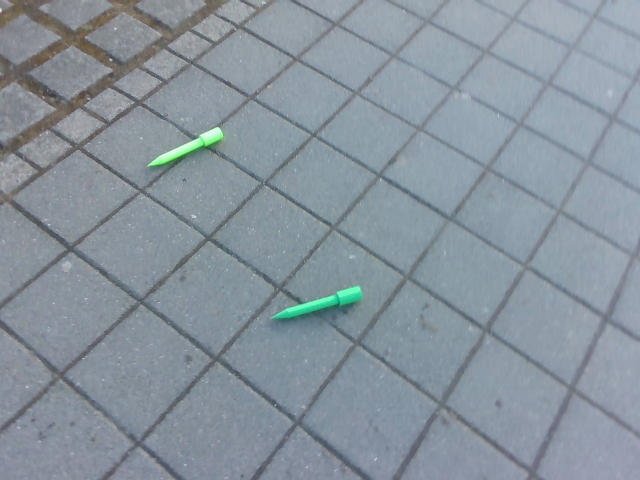Probe: (269, 277, 364, 329), (145, 124, 225, 171)
